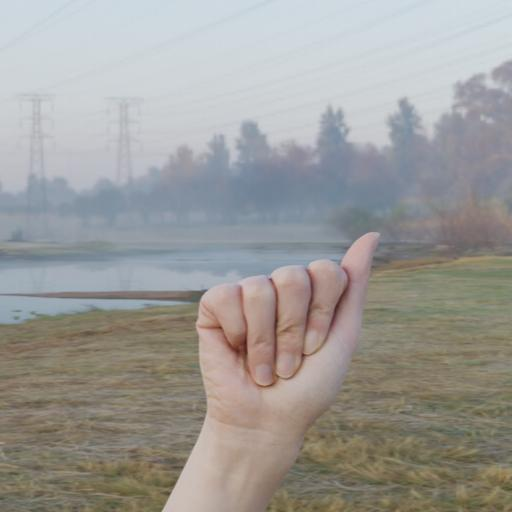A: (180, 215, 385, 511)
